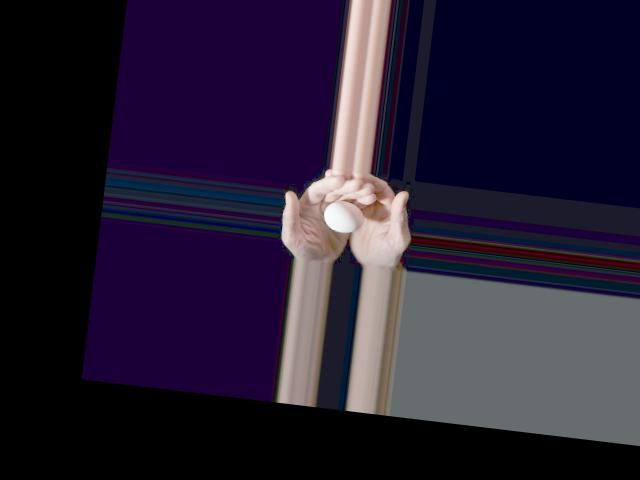egg: (321, 198, 365, 235)
